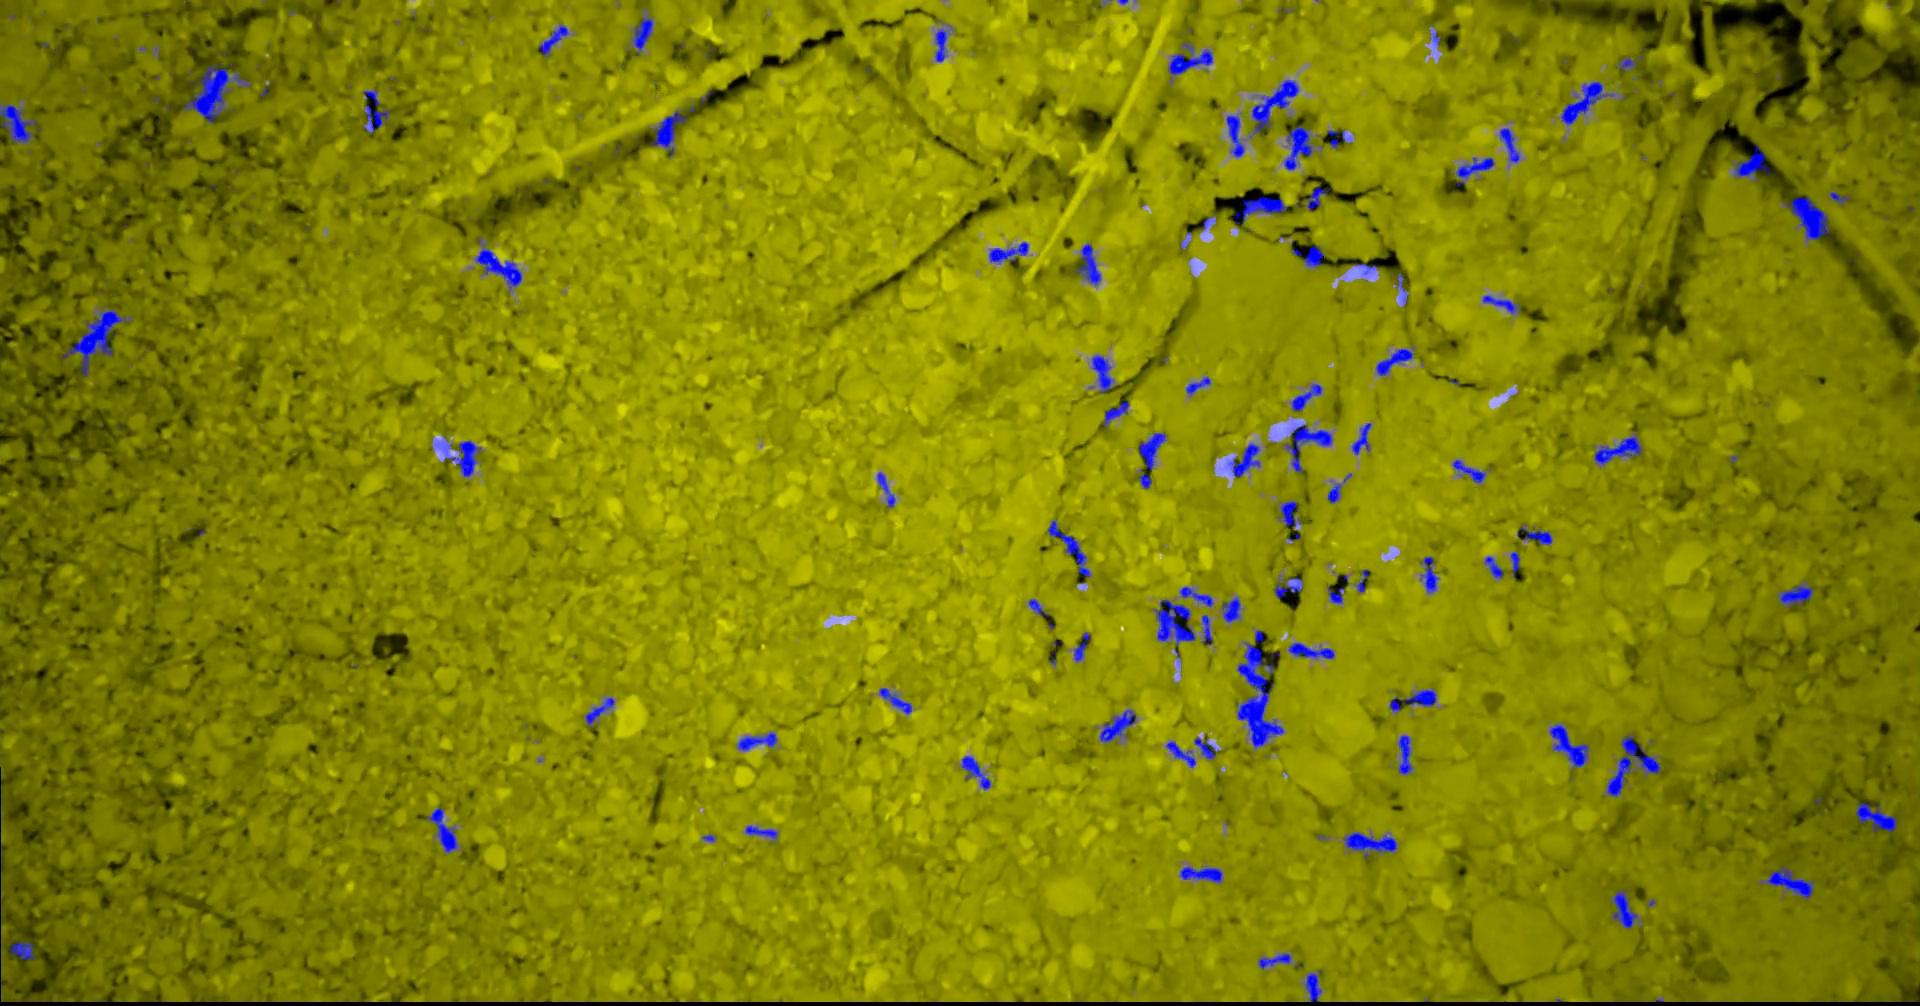ant: (1253, 79, 1300, 135), (1156, 600, 1197, 659), (1049, 520, 1092, 575), (1286, 424, 1335, 473), (477, 238, 523, 288), (1562, 81, 1613, 124), (1784, 196, 1832, 239), (1550, 723, 1591, 768), (1764, 866, 1815, 899), (1170, 42, 1214, 79), (653, 111, 688, 156), (1236, 196, 1289, 224), (427, 807, 458, 852), (1, 103, 37, 144), (1595, 434, 1643, 464), (444, 439, 483, 476), (1345, 832, 1398, 857), (1735, 145, 1771, 180), (1285, 124, 1314, 169), (1611, 888, 1642, 929), (1857, 801, 1898, 831), (364, 88, 391, 133), (1457, 156, 1496, 187), (1101, 709, 1137, 741), (1377, 345, 1415, 375), (1229, 443, 1262, 476), (1390, 688, 1437, 711), (1077, 243, 1102, 285), (1140, 432, 1167, 470), (963, 754, 992, 789), (540, 24, 569, 56), (632, 15, 655, 55), (585, 697, 616, 727), (1291, 384, 1323, 412), (880, 687, 913, 714), (1093, 354, 1115, 392), (1167, 741, 1197, 767), (990, 241, 1030, 262), (1227, 116, 1246, 158), (1289, 641, 1336, 658), (1779, 584, 1815, 606), (1454, 459, 1487, 481), (1103, 400, 1131, 427), (1291, 244, 1326, 265), (1501, 127, 1521, 163), (738, 732, 778, 749), (1181, 586, 1214, 607), (1421, 556, 1440, 593), (877, 471, 897, 507), (1181, 866, 1224, 882), (1484, 295, 1521, 312), (1352, 422, 1373, 453), (1276, 575, 1304, 598), (1195, 735, 1220, 760), (1521, 525, 1553, 544), (1305, 969, 1323, 1002), (1399, 735, 1415, 774), (1281, 500, 1302, 528), (1258, 953, 1293, 969), (1308, 185, 1331, 210), (1223, 596, 1242, 622), (1187, 376, 1211, 395), (11, 941, 37, 959), (1076, 631, 1091, 661), (1486, 555, 1505, 578), (936, 28, 949, 61), (745, 826, 778, 838), (1328, 130, 1347, 149), (1030, 598, 1049, 617), (1203, 614, 1214, 645), (1398, 273, 1410, 304), (1330, 586, 1346, 603), (1831, 191, 1851, 205), (1357, 569, 1370, 591), (1619, 56, 1637, 71), (1330, 483, 1343, 502), (1140, 467, 1153, 488), (1511, 551, 1521, 577)
